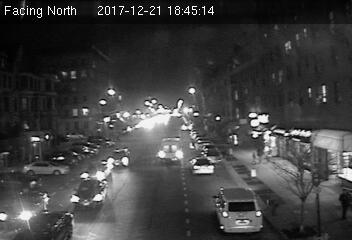car: (214, 186, 262, 234), (1, 187, 48, 222), (69, 177, 109, 210), (79, 161, 115, 180), (189, 156, 216, 176), (107, 148, 134, 166)
truck: (159, 137, 184, 163)
